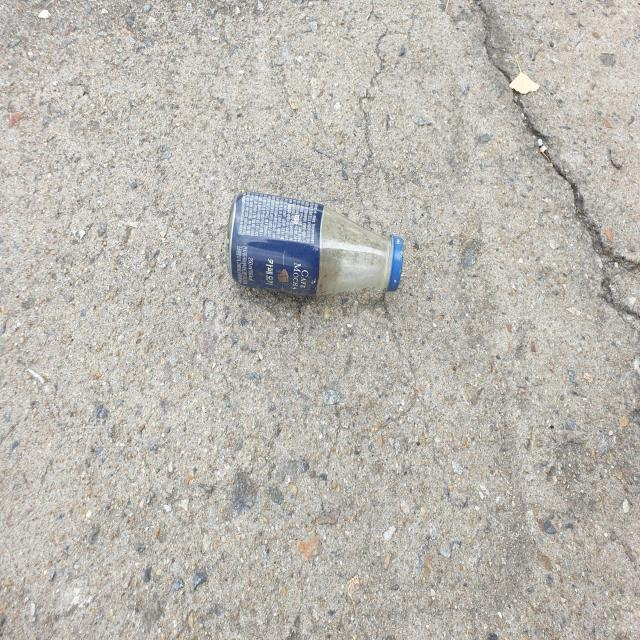glass: (227, 192, 403, 296)
